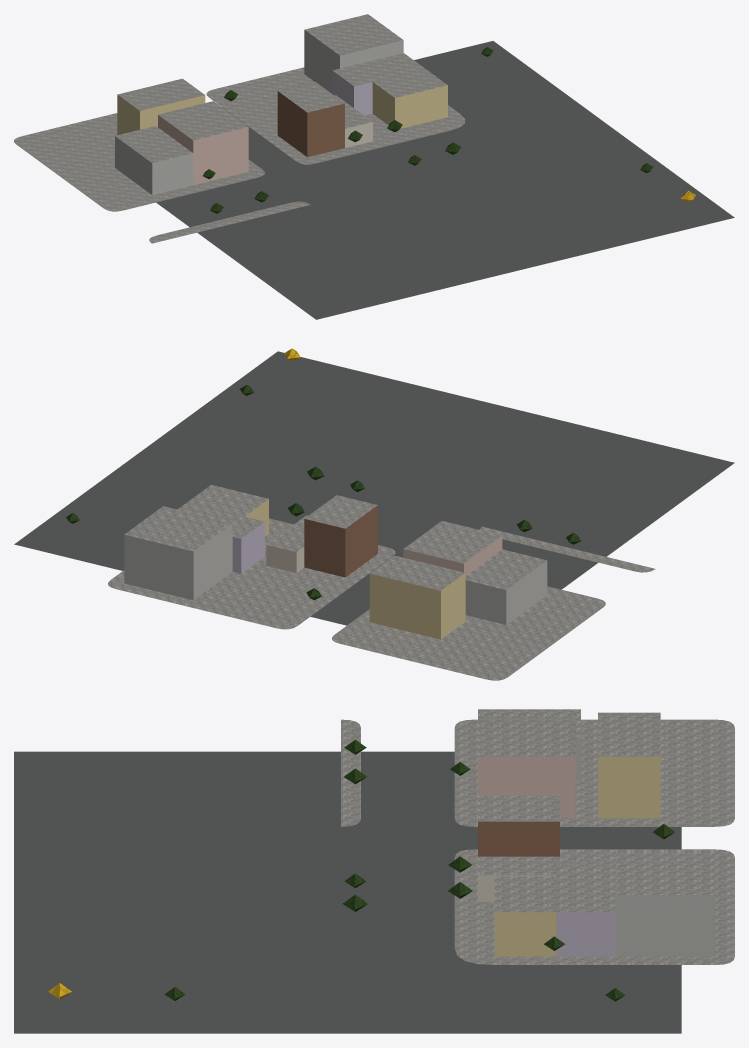
File: cidade_S05_05_lod.gltf
3 views of the same model, one above another, from view 1: azimuth 30°, elevation 25°; view 2: azimuth 150°, elevation 25°; view 3: azimuth 270°, elevation 25° (orthographic). The views are drawn at different scales.
Parts seen in each view (by area): view 1: S05_05_Chao_LOD2, S05_05_Edificios_LOD1, S05_05_Vegetacao_LOD2; view 2: S05_05_Chao_LOD2, S05_05_Edificios_LOD1, S05_05_Vegetacao_LOD2; view 3: S05_05_Chao_LOD2, S05_05_Edificios_LOD1, S05_05_Vegetacao_LOD2.
Boxes of the visible parts, bbox=[...] form: S05_05_Chao_LOD2: bbox=[14, 41, 734, 319]; S05_05_Edificios_LOD1: bbox=[115, 14, 447, 194]; S05_05_Vegetacao_LOD2: bbox=[203, 47, 695, 213]; S05_05_Chao_LOD2: bbox=[14, 351, 734, 680]; S05_05_Edificios_LOD1: bbox=[124, 485, 547, 639]; S05_05_Vegetacao_LOD2: bbox=[66, 348, 580, 600]; S05_05_Chao_LOD2: bbox=[14, 719, 734, 1033]; S05_05_Edificios_LOD1: bbox=[478, 709, 714, 956]; S05_05_Vegetacao_LOD2: bbox=[48, 739, 674, 1001].
Bounding box in the file's own units: 111 × 10.37 × 108.
Materials: 10 (10 with a texture image).
